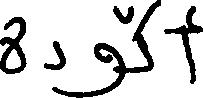X: (95, 1, 125, 97), (136, 0, 160, 77), (183, 1, 202, 88), (0, 12, 25, 78), (45, 36, 65, 97)
